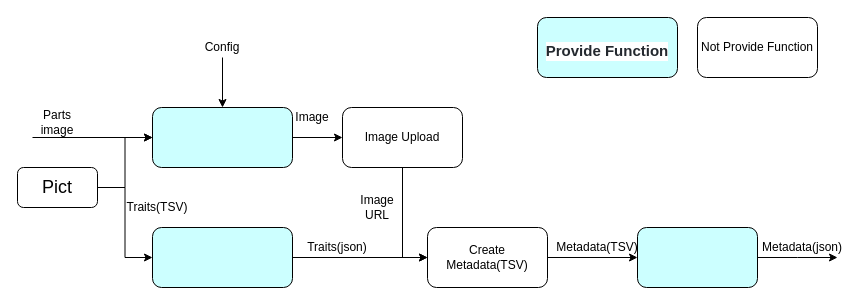
Some shapes in this 863 by 305 pixel diagram are drawn without their labels. Each missing label, with the centre of its shape:
"csv2metadata" goes at point (697, 257).
"generative_image" goes at point (222, 137).
"traits2json" goes at point (222, 257).
